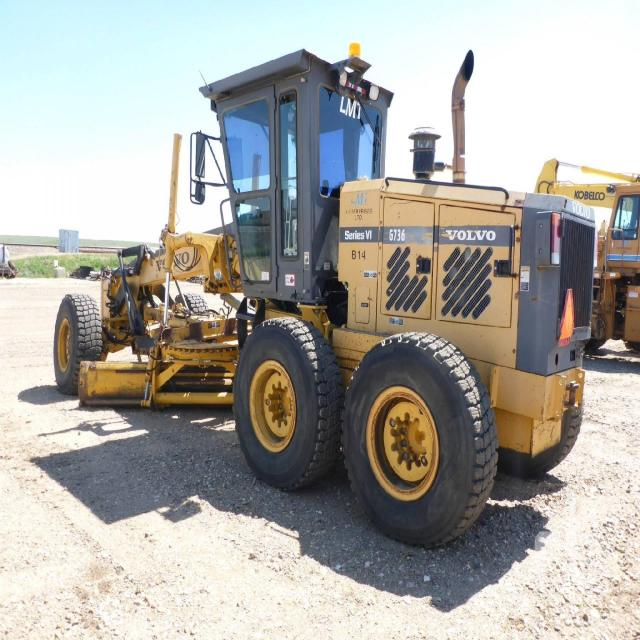buldozerpayloadergrader: (37, 46, 618, 532)
